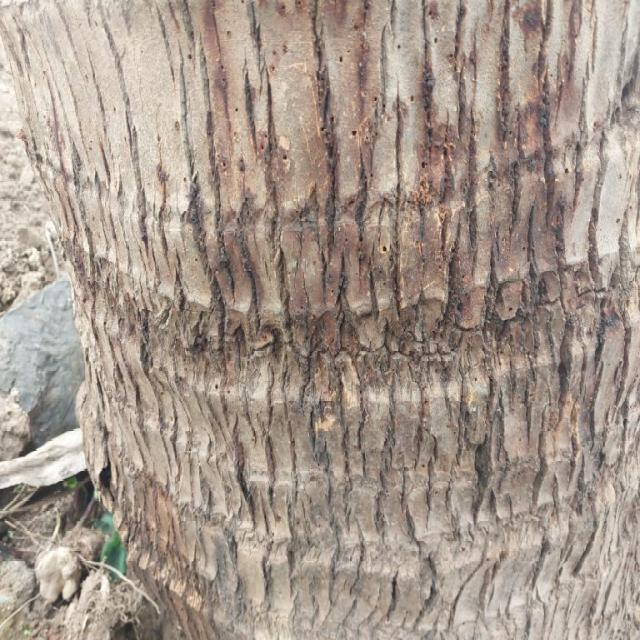stembleeding: (187, 136, 614, 493)
